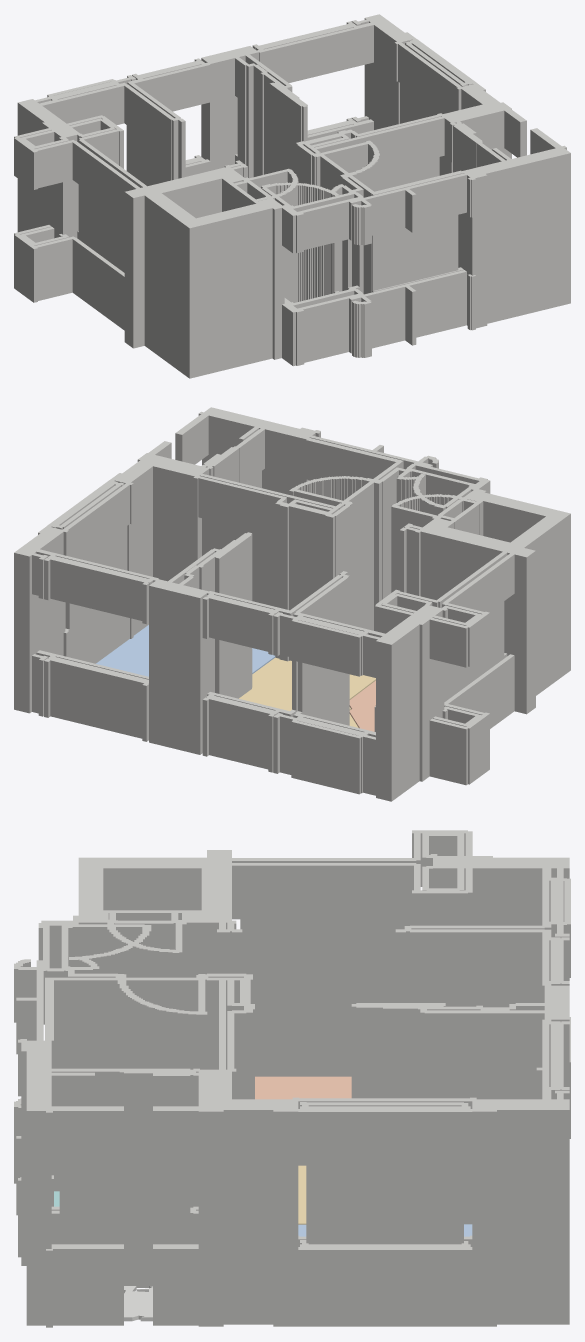
The picture shows the model from 3 angles, top to bottom: view 1: azimuth 30°, elevation 25°; view 2: azimuth 150°, elevation 25°; view 3: azimuth 270°, elevation 25°; orthographic projection. The views are drawn at different scales.
Visible parts, largest first — view 1: walls; view 2: walls, room:living:4, room:bedroom:0, room:kitchen:5; view 3: walls, room:kitchen:5, room:ledge:3.
Part boxes in pixels (x1,y1,x2,y2): walls: (14,14,570,378); walls: (14,407,570,801); room:living:4: (239,657,375,727); room:bedroom:0: (96,625,275,676); room:kitchen:5: (349,680,375,731); walls: (14,830,570,1327); room:kitchen:5: (255,1076,351,1099); room:ledge:3: (124,1286,152,1321).
Bounding box in the file's own units: 7.89 × 2.8 × 6.58.
